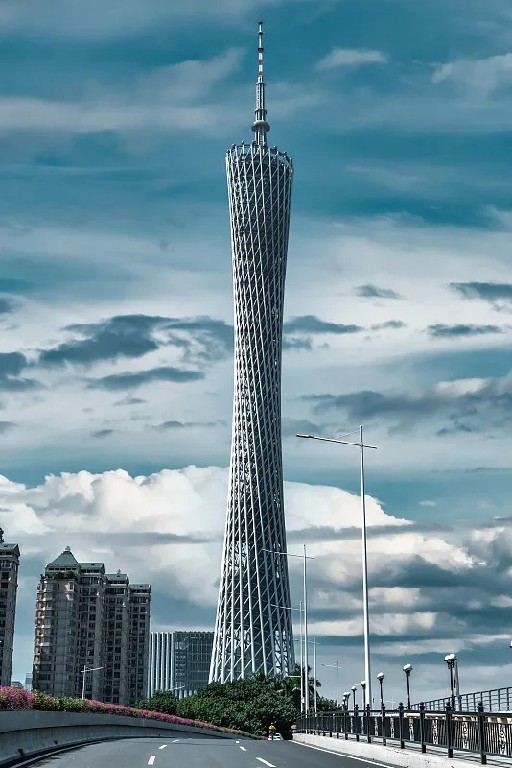Canton: (205, 18, 296, 687)
